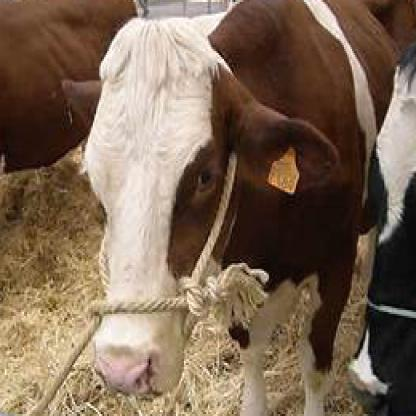cow: (57, 0, 416, 415), (342, 47, 416, 414)
